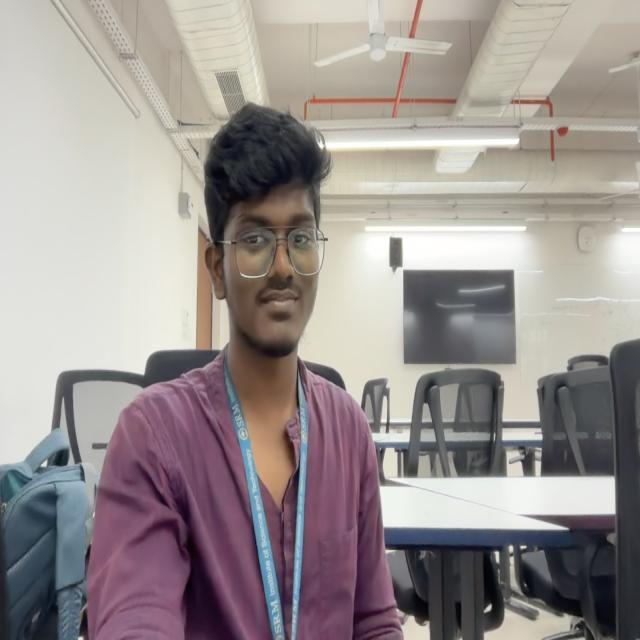ravindra: (204, 103, 328, 358)
